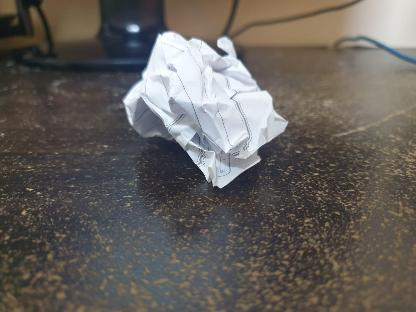Paper: (123, 26, 291, 181)
